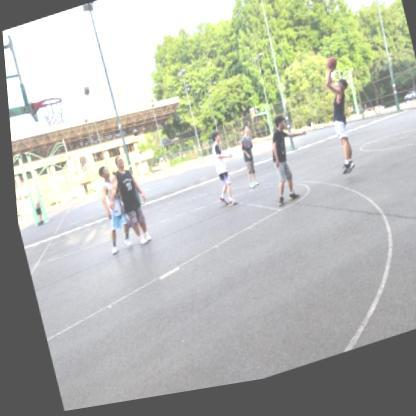basketball: (323, 66, 336, 82)
